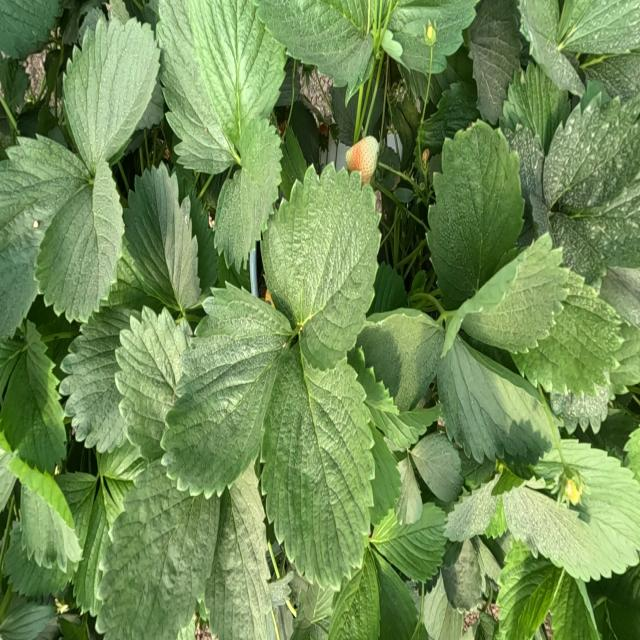Leaves: (157, 0, 286, 266), (262, 347, 373, 587), (165, 289, 290, 491), (263, 167, 379, 371), (99, 461, 217, 639), (502, 445, 639, 580), (427, 125, 523, 306), (545, 95, 639, 275), (1, 136, 87, 330), (438, 339, 558, 460), (65, 15, 159, 166), (36, 160, 124, 319), (449, 235, 564, 351), (522, 274, 621, 394), (205, 471, 275, 639), (116, 308, 190, 457), (128, 165, 199, 310), (214, 120, 281, 271), (257, 0, 373, 87), (1, 323, 65, 474), (59, 310, 124, 451), (359, 311, 444, 409), (467, 0, 522, 122), (387, 0, 476, 72), (501, 62, 570, 154), (519, 1, 583, 94), (373, 503, 446, 581), (497, 555, 561, 639), (2, 523, 73, 598), (20, 486, 80, 571), (504, 123, 548, 234), (328, 549, 380, 639), (73, 489, 107, 615), (560, 1, 639, 55), (179, 179, 217, 290), (410, 434, 463, 503), (375, 559, 419, 639), (426, 81, 479, 147), (0, 1, 59, 59), (56, 472, 98, 548), (445, 480, 497, 541), (551, 573, 599, 639), (441, 539, 482, 611), (550, 388, 611, 433), (585, 55, 640, 101), (0, 596, 58, 639), (423, 577, 463, 639), (367, 262, 409, 315), (103, 277, 164, 311), (289, 100, 319, 169), (120, 257, 138, 279)
Strawberries: (345, 137, 378, 183), (565, 479, 580, 503), (425, 23, 435, 45)
